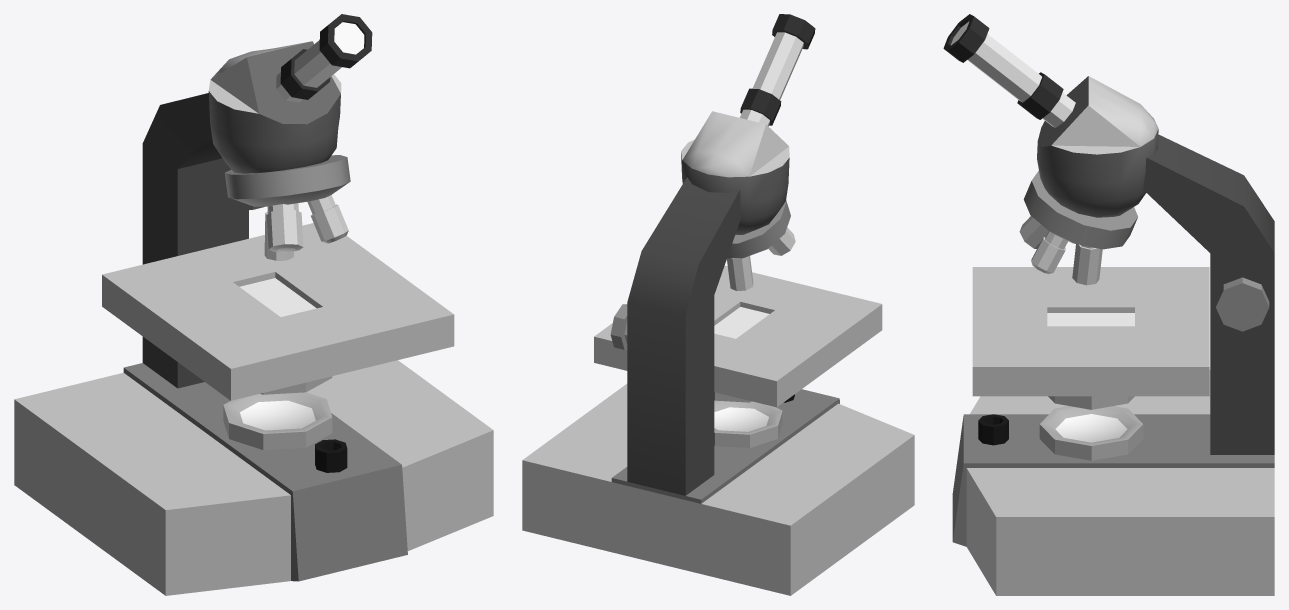
Rendered from Microscope.fbx.
3 views of the same model, side by side, from view 1: azimuth 30°, elevation 25°; view 2: azimuth 150°, elevation 25°; view 3: azimuth 270°, elevation 25° (orthographic). The views are drawn at different scales.
Parts seen in each view (by area): view 1: Microscope; view 2: Microscope; view 3: Microscope.
Part boxes in pixels (left/top/right/bottom): Microscope: left=14, top=14, right=493, bottom=595; Microscope: left=522, top=14, right=914, bottom=595; Microscope: left=943, top=14, right=1274, bottom=595.
Size of the model in its own units: 694 by 1113 by 660.
